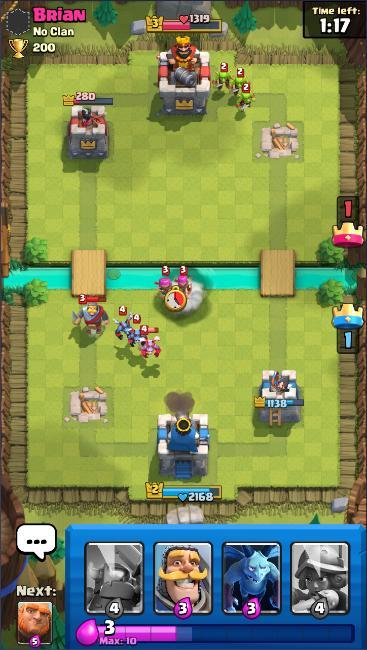enemy_archer: (152, 263, 176, 299), (172, 264, 195, 301)
enemy_goblin: (227, 67, 252, 98), (235, 82, 259, 114), (212, 61, 235, 93)
enemy_knight: (70, 293, 112, 339)
enemy_minion: (111, 303, 137, 343), (136, 324, 163, 360), (126, 311, 149, 348)
